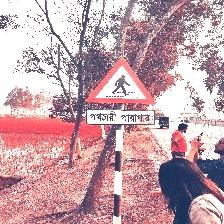Pedestrian-crossing: (84, 58, 156, 127)
